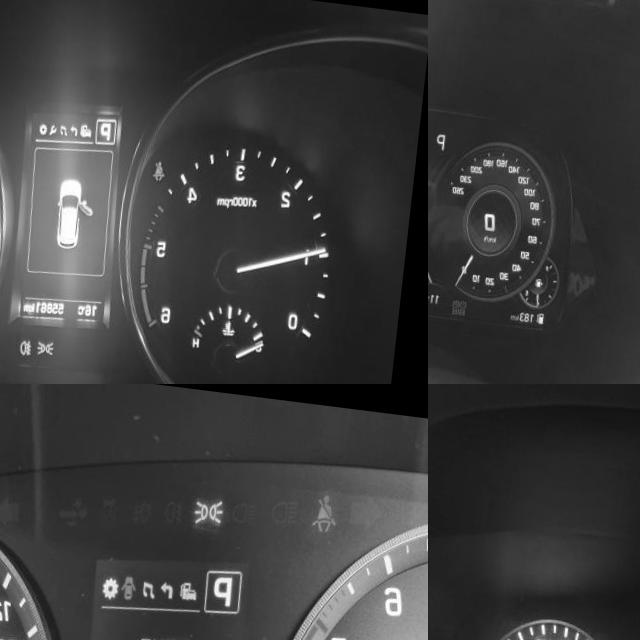Doors: (126, 566, 143, 594)
FrontFogLight: (29, 329, 42, 351)
SideLamp: (196, 485, 229, 521), (45, 330, 65, 349)
